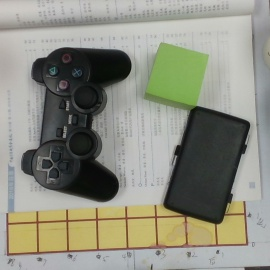remote: (22, 46, 132, 203)
